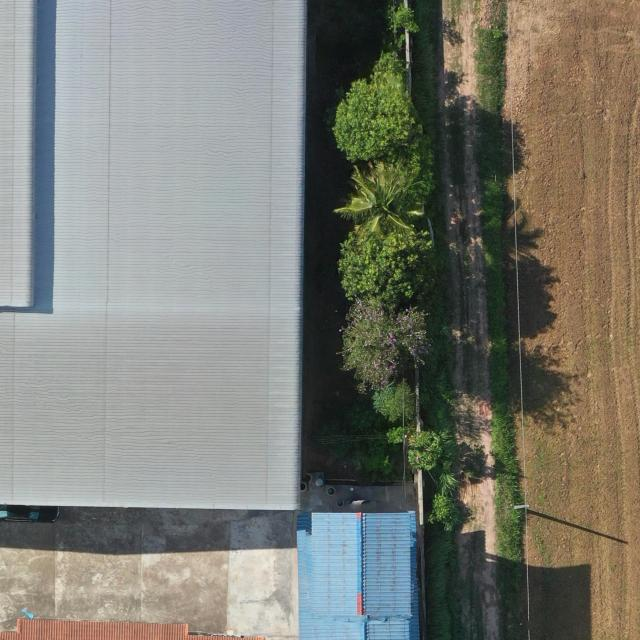Tree: (332, 49, 424, 162), (338, 297, 432, 394), (336, 225, 434, 307), (335, 165, 427, 239), (385, 426, 442, 469), (372, 379, 422, 424), (429, 492, 465, 533)
